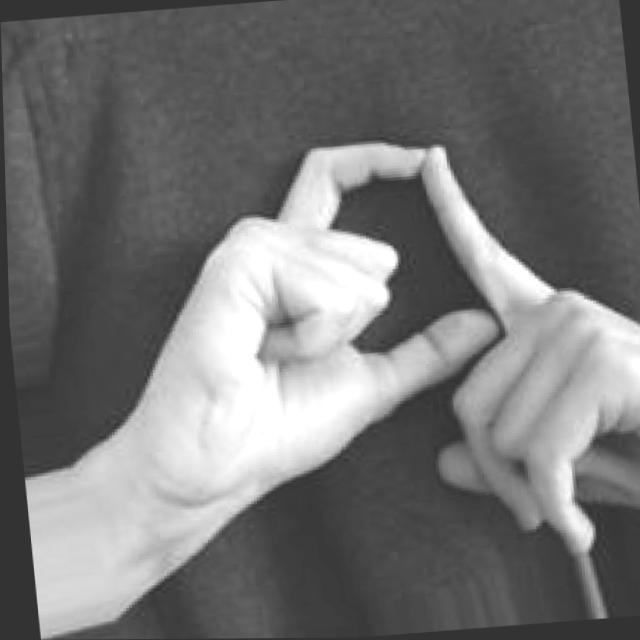D: (140, 129, 622, 586)
